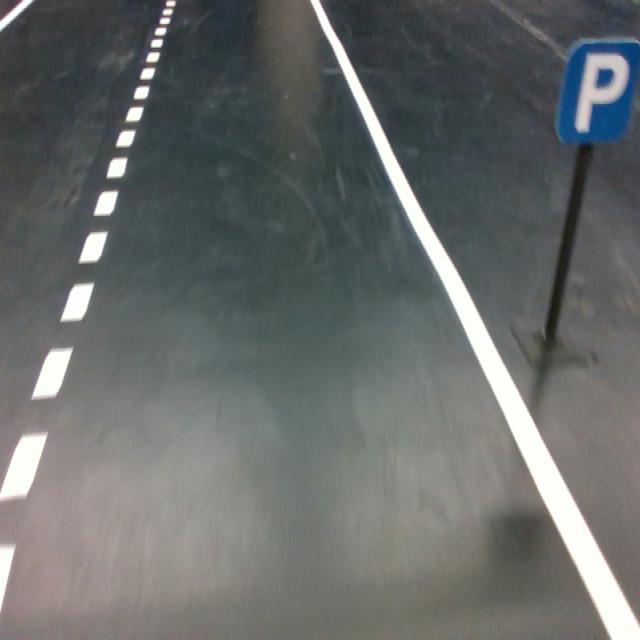parking-sign: (552, 35, 640, 147)
